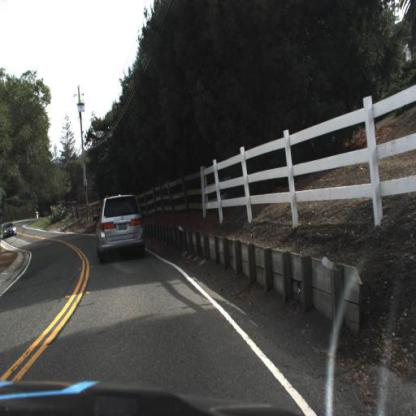car: (99, 192, 150, 262), (1, 218, 19, 241)
